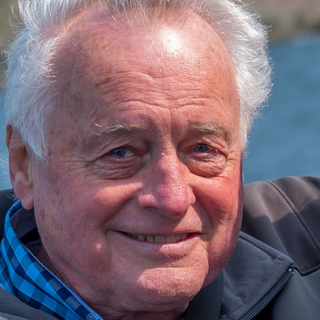eye: (96, 141, 144, 166), (180, 140, 225, 164)
